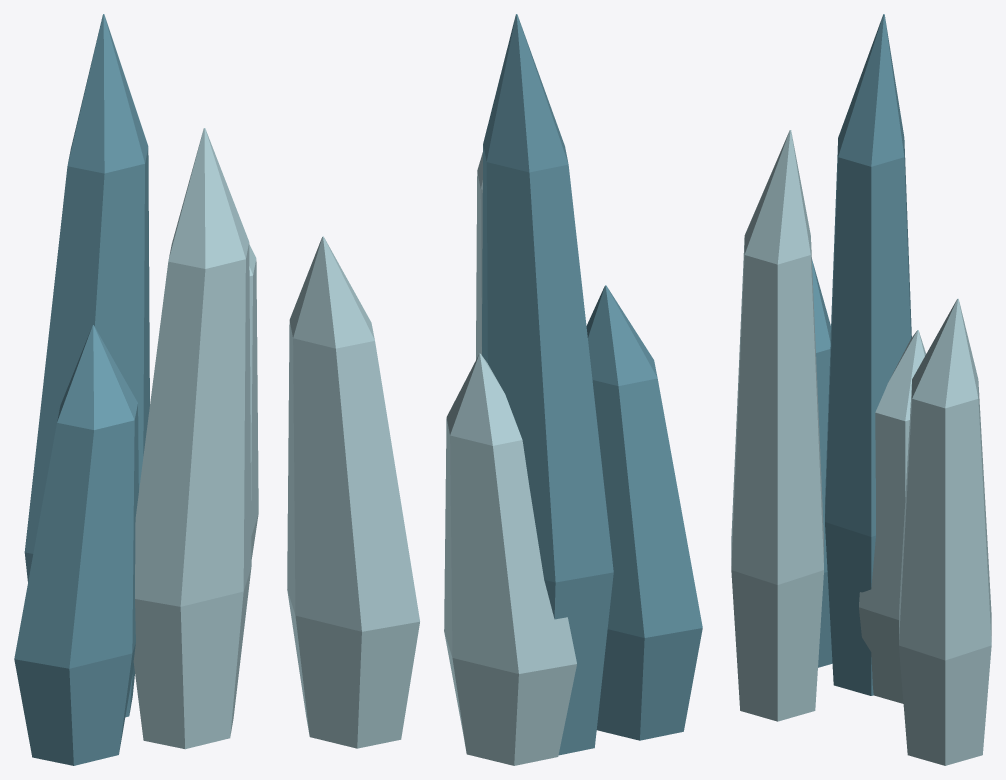
Rendered from crystals.glb.
The picture shows the model from 3 angles, left to right: view 1: azimuth 30°, elevation 25°; view 2: azimuth 150°, elevation 25°; view 3: azimuth 270°, elevation 25°; orthographic projection. The views are drawn at different scales.
Parts seen in each view (by area): view 1: Crystal.004, Crystal.003, Crystal.001, Crystal; view 2: Crystal.001, Crystal, Crystal.002, Crystal.003, Crystal.004; view 3: Crystal.004, Crystal.001, Crystal, Crystal.002, Crystal.003.
Boxes of the visible parts, box(x1,y1,x2,y2) form: Crystal.004: box(133, 128, 251, 749); Crystal.003: box(14, 325, 138, 765); Crystal.001: box(24, 14, 149, 717); Crystal: box(249, 244, 258, 558); Crystal.001: box(482, 14, 613, 755); Crystal: box(287, 236, 419, 748); Crystal.002: box(444, 353, 576, 765); Crystal.003: box(586, 285, 702, 740); Crystal.004: box(476, 152, 482, 359); Crystal.004: box(731, 130, 823, 721); Crystal.001: box(825, 14, 911, 695); Crystal: box(899, 298, 991, 765); Crystal.002: box(859, 330, 925, 703); Crystal.003: box(812, 259, 832, 667).
Size of the model in its own units: 1.42 by 2.9 by 1.02.
